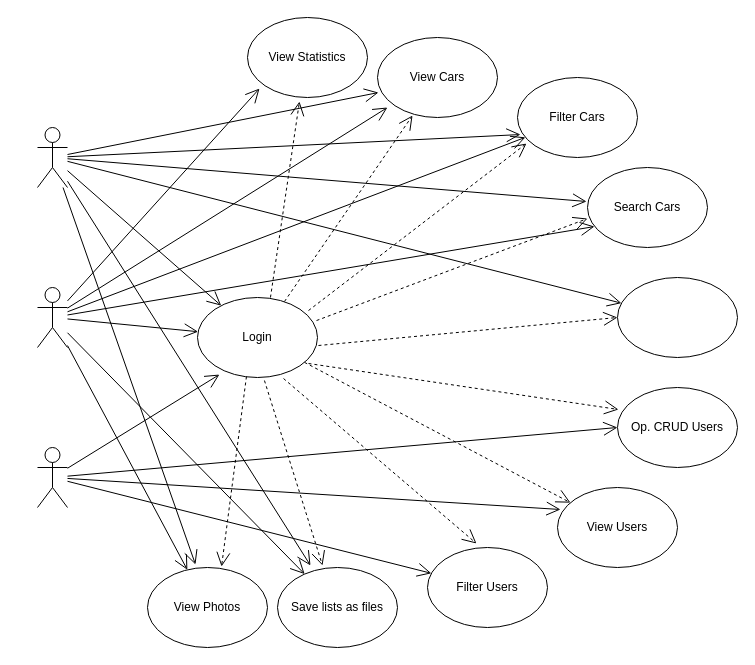
Some shapes in this 755 by 665 pixel diagram are drawn without their labels. Here are the shapes that lost their labels. From the top down, the box of each, then its label:
(36, 126, 68, 188): Employee
(36, 286, 68, 348): Manager
(616, 276, 738, 358): Op. CRUD Cars
(36, 446, 68, 508): Administrator
